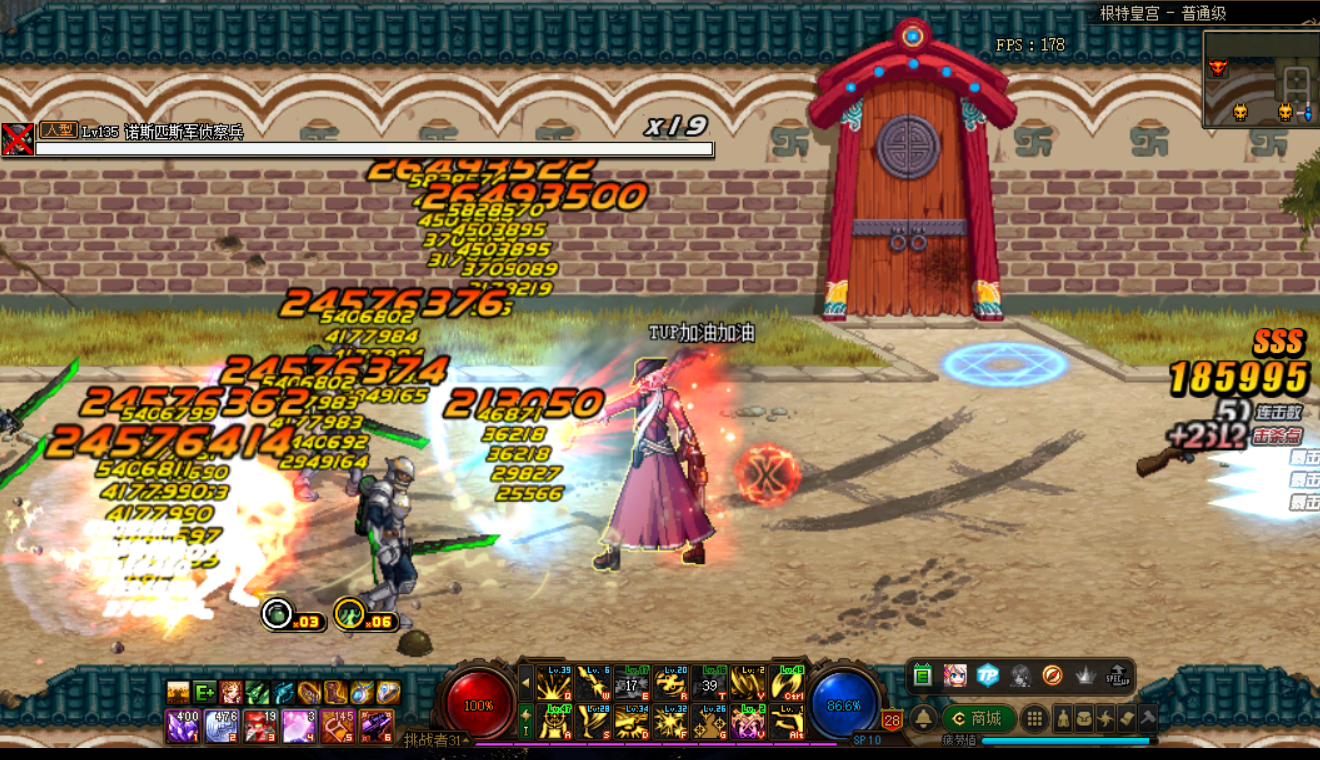monster: (272, 330, 434, 494), (354, 459, 500, 616)
warrior: (543, 331, 723, 573)
